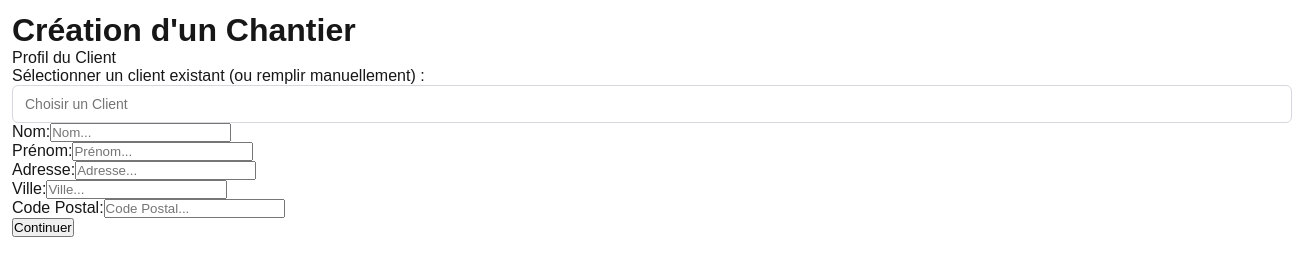
Test: Page de création de client › affiche un message d'erreur si champs vide
Click the button "Continuer" at (43, 228), box [12,218,74,237]
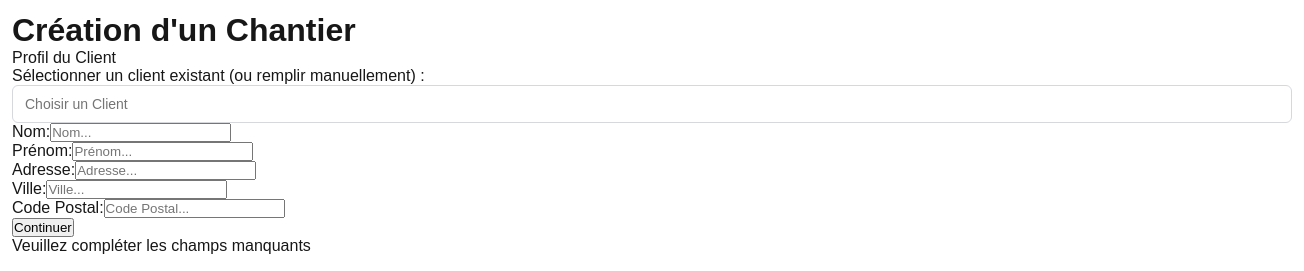
expect the text "Veuillez compléter les champs manquants" is shown: met, box [12,237,311,254]
